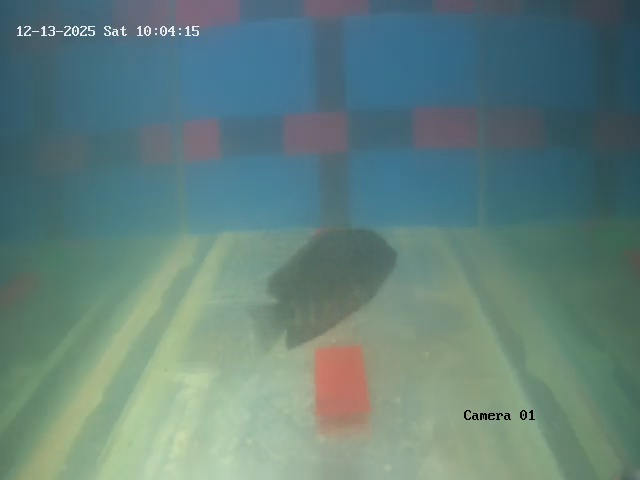fish: (273, 204, 403, 361)
